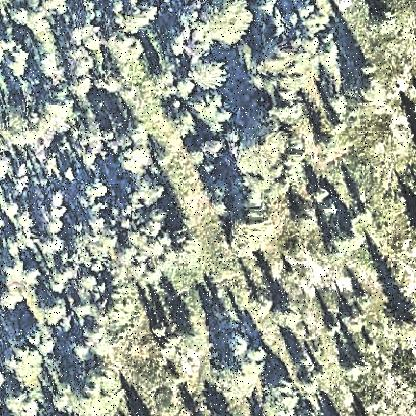tree-top: (202, 1, 258, 47), (217, 355, 265, 405), (110, 21, 149, 65), (228, 212, 266, 255), (194, 89, 232, 127), (115, 3, 157, 37), (192, 56, 230, 92), (135, 175, 172, 207), (122, 143, 156, 177), (293, 356, 323, 394), (65, 47, 97, 80), (42, 194, 74, 227), (330, 223, 364, 254), (84, 360, 118, 391), (38, 297, 70, 329), (2, 389, 39, 416), (6, 44, 36, 77), (272, 297, 302, 328), (373, 5, 404, 35), (389, 298, 416, 332), (351, 62, 379, 94), (22, 326, 56, 352), (268, 373, 296, 402), (340, 352, 370, 379), (37, 49, 65, 77), (177, 320, 203, 349), (273, 99, 301, 125), (224, 333, 250, 360), (68, 74, 96, 99), (45, 188, 69, 216), (83, 176, 110, 200), (326, 90, 351, 115), (40, 234, 66, 258), (9, 4, 35, 28), (201, 137, 224, 161), (174, 76, 197, 100), (76, 272, 100, 294), (1, 285, 21, 310), (71, 339, 93, 361), (72, 299, 94, 320), (249, 341, 271, 361), (357, 60, 379, 79), (309, 185, 329, 205), (1, 153, 15, 179), (324, 318, 343, 336), (258, 1, 279, 15), (64, 165, 80, 183), (129, 404, 153, 416), (152, 322, 170, 338)
